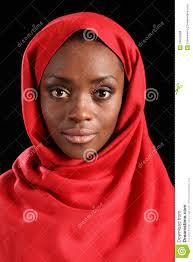No Mask: (30, 25, 142, 173)
